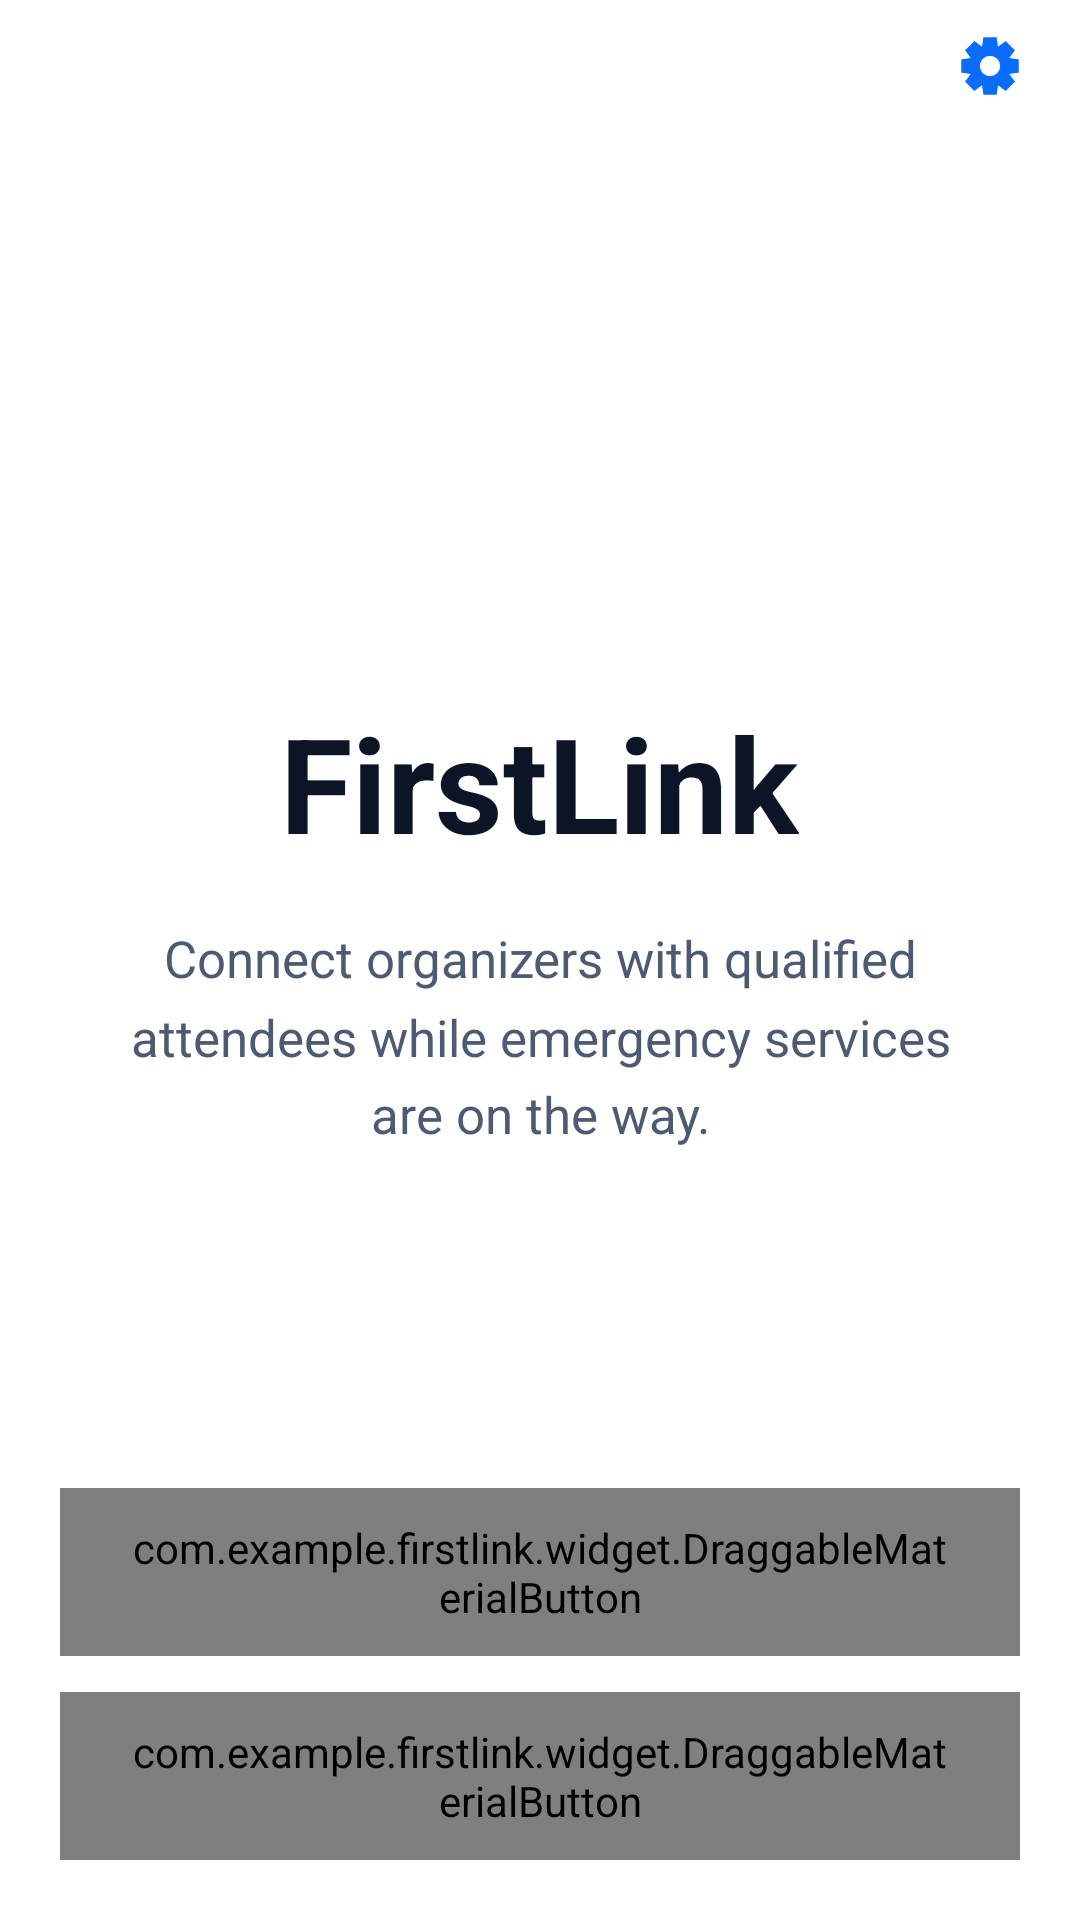

Screen size 1080px×1920px. Icon name, then its center in pixels as (x,y):
Settings: (990,66)
